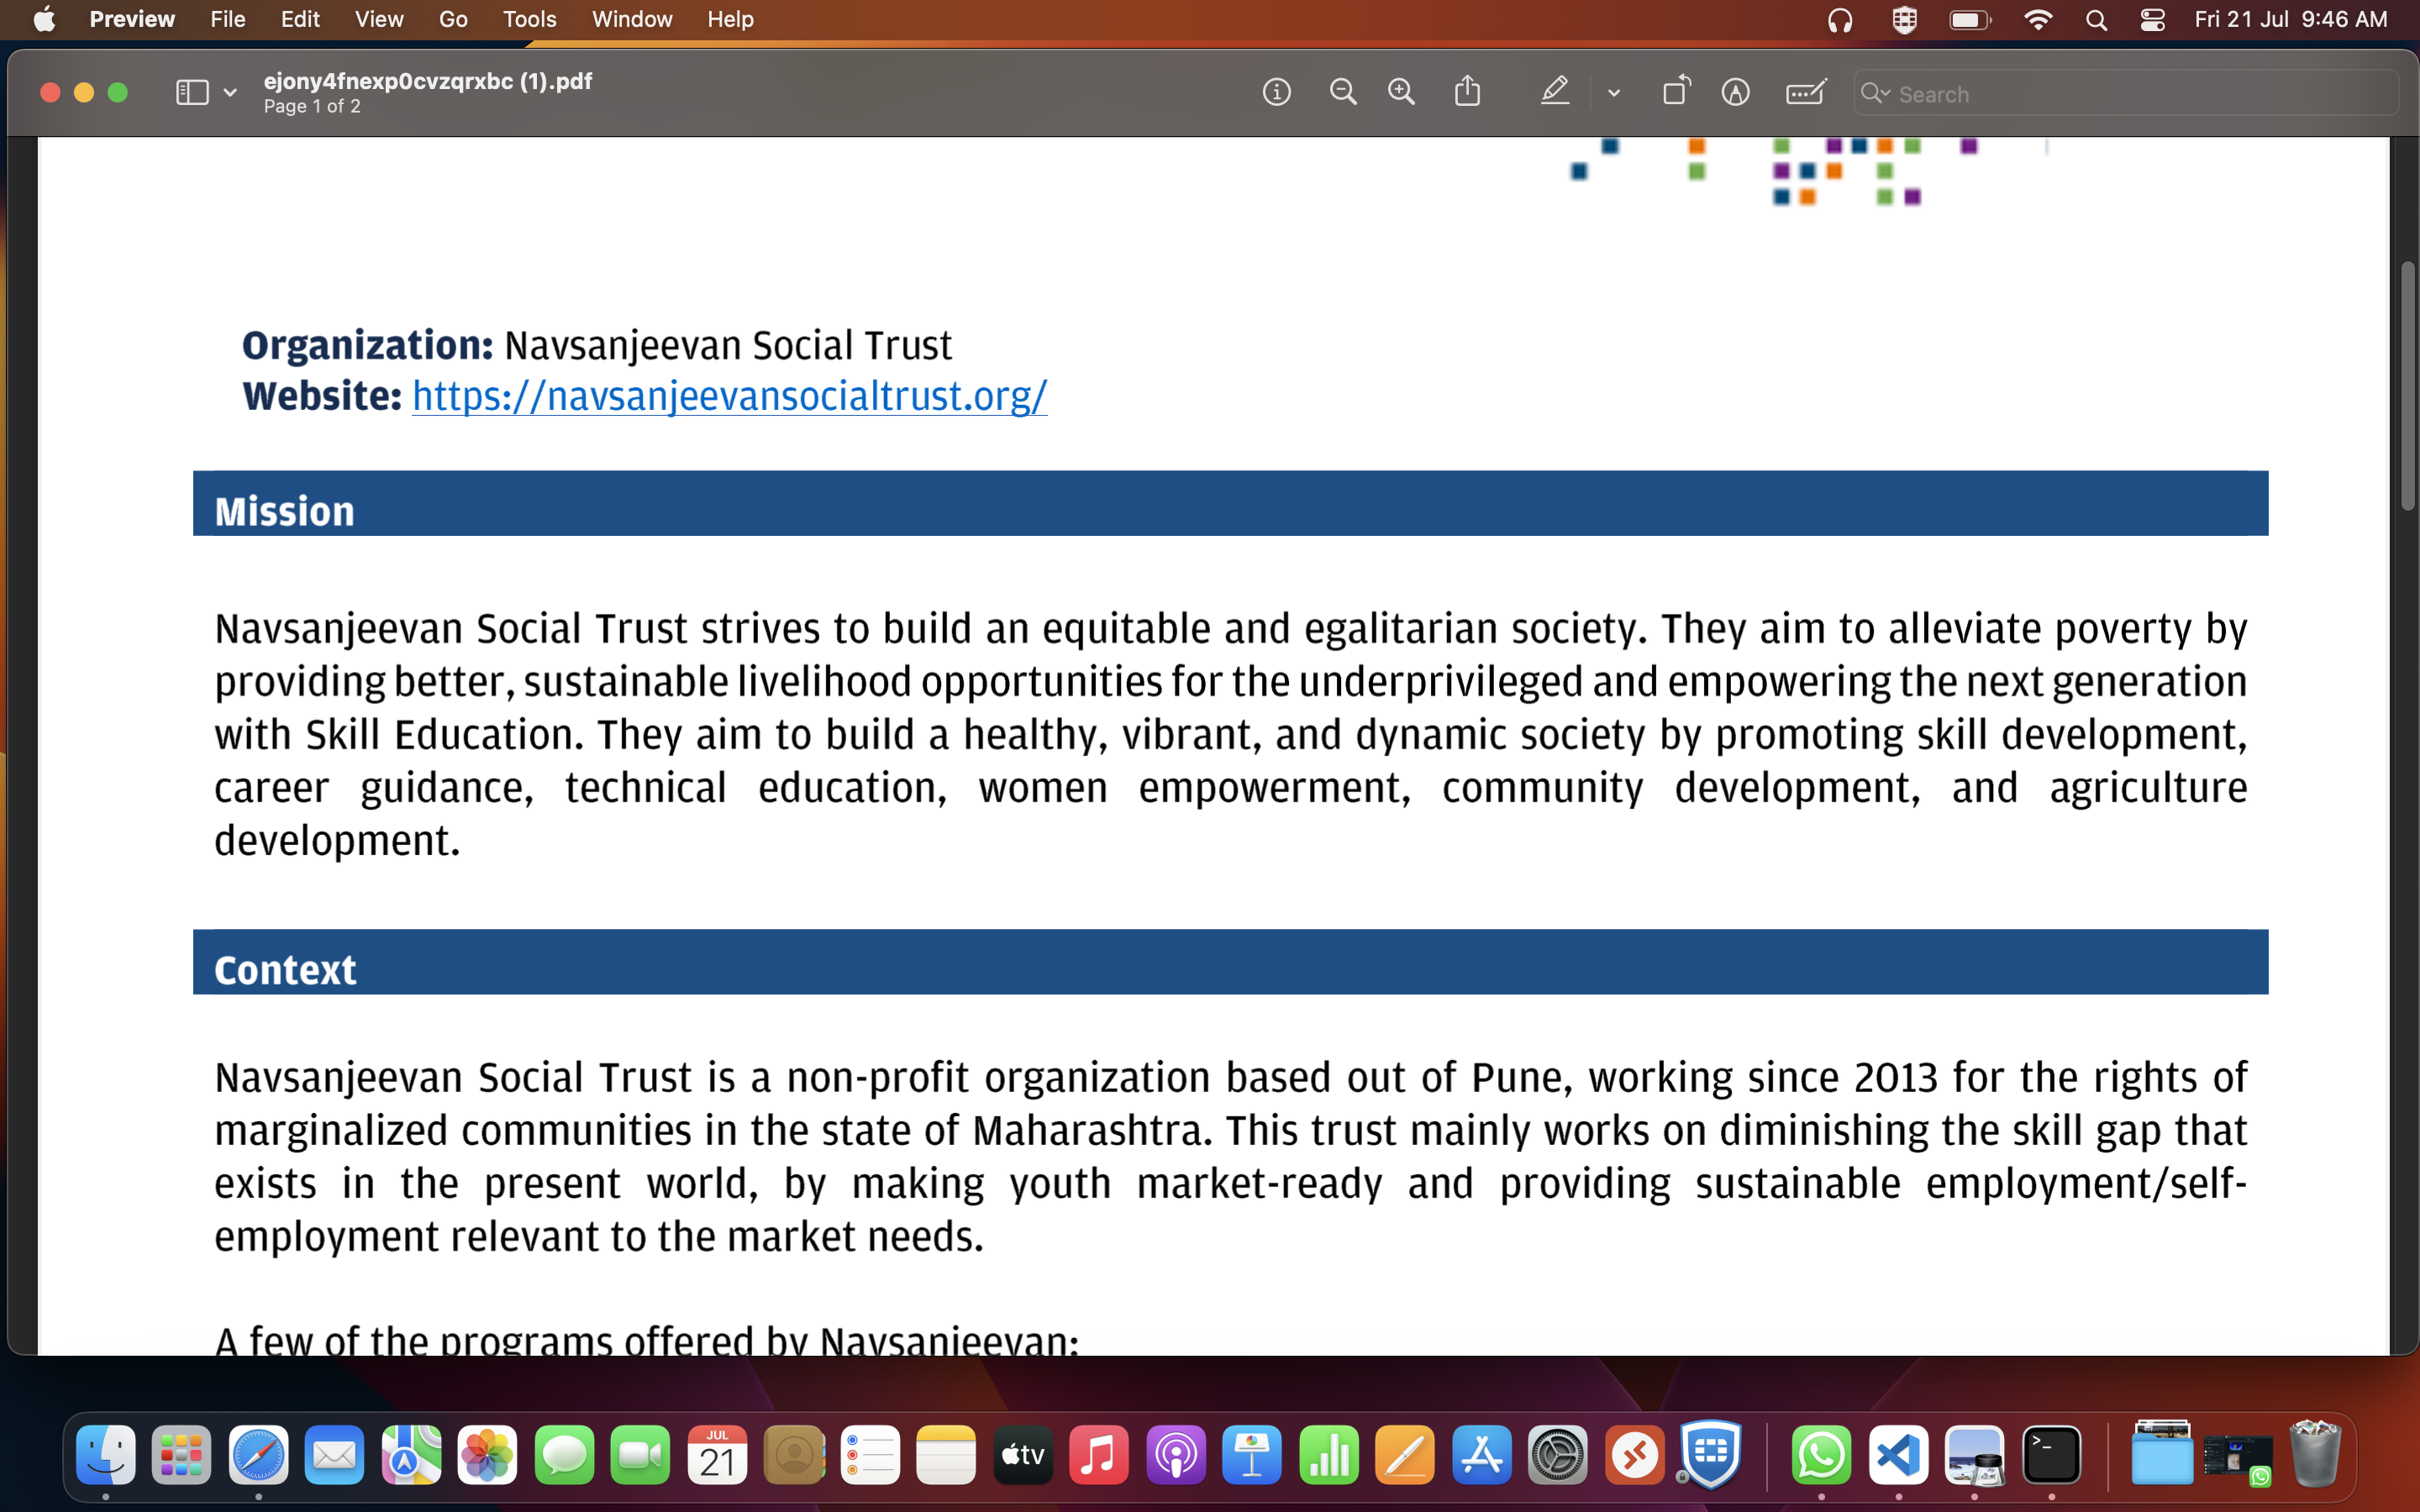Paragraph: (186, 592, 2277, 873), (204, 1049, 2274, 1249), (220, 322, 1065, 427), (200, 946, 376, 1009), (200, 486, 366, 526)
